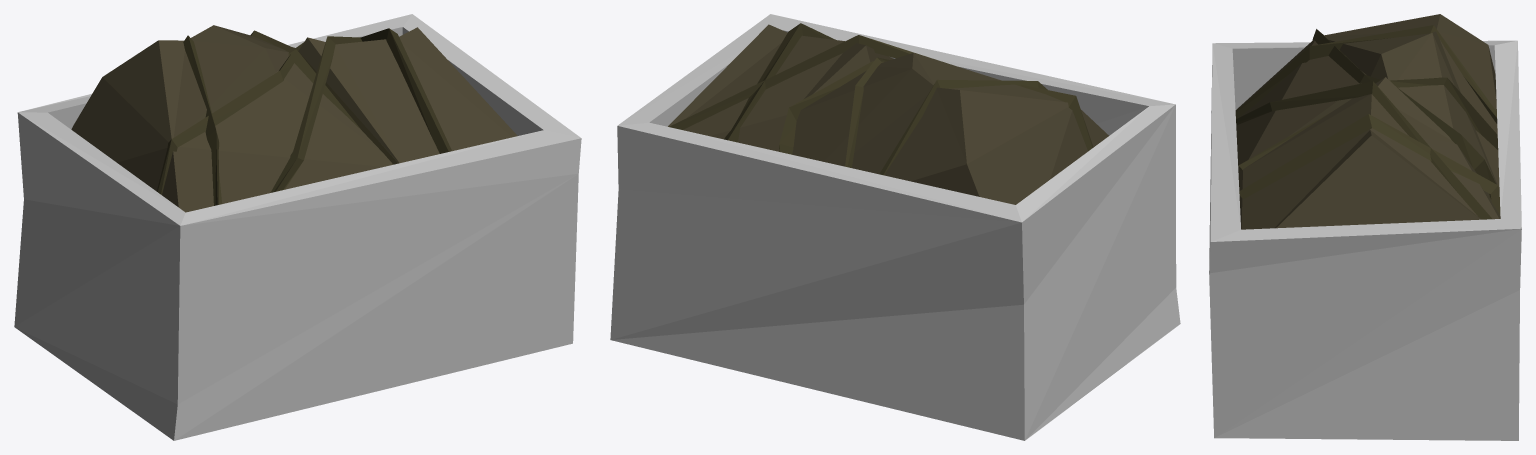
Rendered from OM_OREBOX_01.OBJ.
3 views of the same model, side by side, from view 1: azimuth 30°, elevation 25°; view 2: azimuth 150°, elevation 25°; view 3: azimuth 270°, elevation 25° (orthographic). The views are drawn at different scales.
Visible parts, largest first — view 1: OM_OREBOX_01; view 2: OM_OREBOX_01; view 3: OM_OREBOX_01.
Part boxes in pixels (bbox=[...]): OM_OREBOX_01: bbox=[14, 14, 581, 440]; OM_OREBOX_01: bbox=[610, 14, 1180, 440]; OM_OREBOX_01: bbox=[1209, 14, 1521, 440].
Size of the model in its own units: 1.67 by 1.16 by 1.14.
